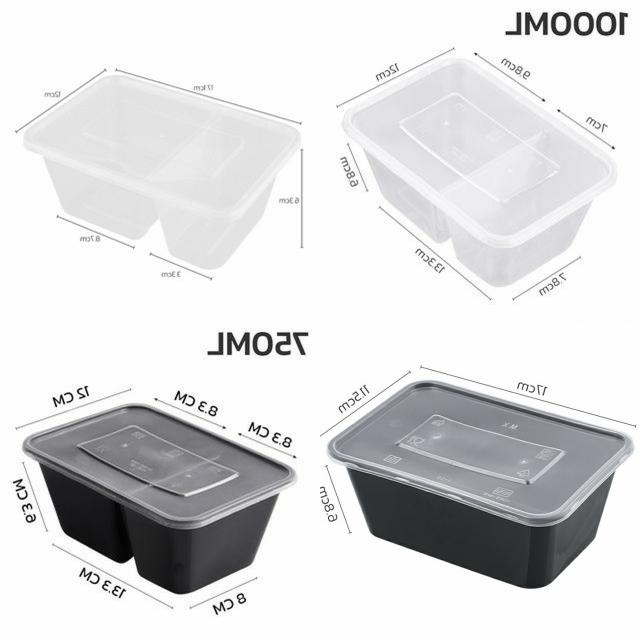Single-Use-Plastic: (328, 381, 634, 588), (344, 59, 616, 286), (24, 72, 300, 269), (24, 405, 294, 593)
